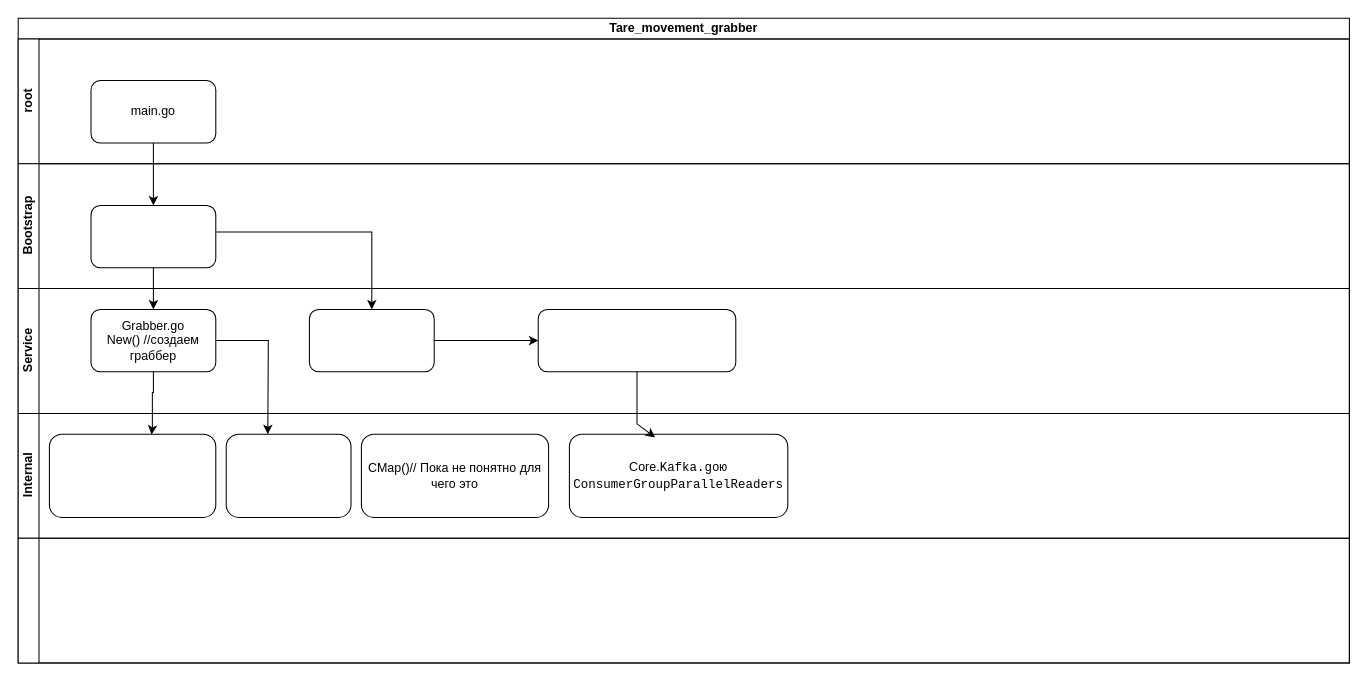
Image size: 1368x681. Some labels were removed from this diagram. The centre of each missing label's shape, as x and y in pixels:
"Config.go()//Файл сот структурами конфигов,топиков и конфигов сциллы" belongs at (x=288, y=475).
"Core. InitScylla()" belongs at (x=132, y=475).
"func StartServer()" belongs at (x=153, y=236).
"Grabber.go . startKafkaConsumers()" belongs at (x=636, y=340).
"Grabber.go Start()//запускаем сервер" belongs at (x=371, y=340).
